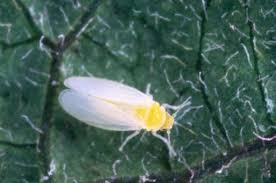Tobacco Whitefly: (56, 69, 182, 137)
